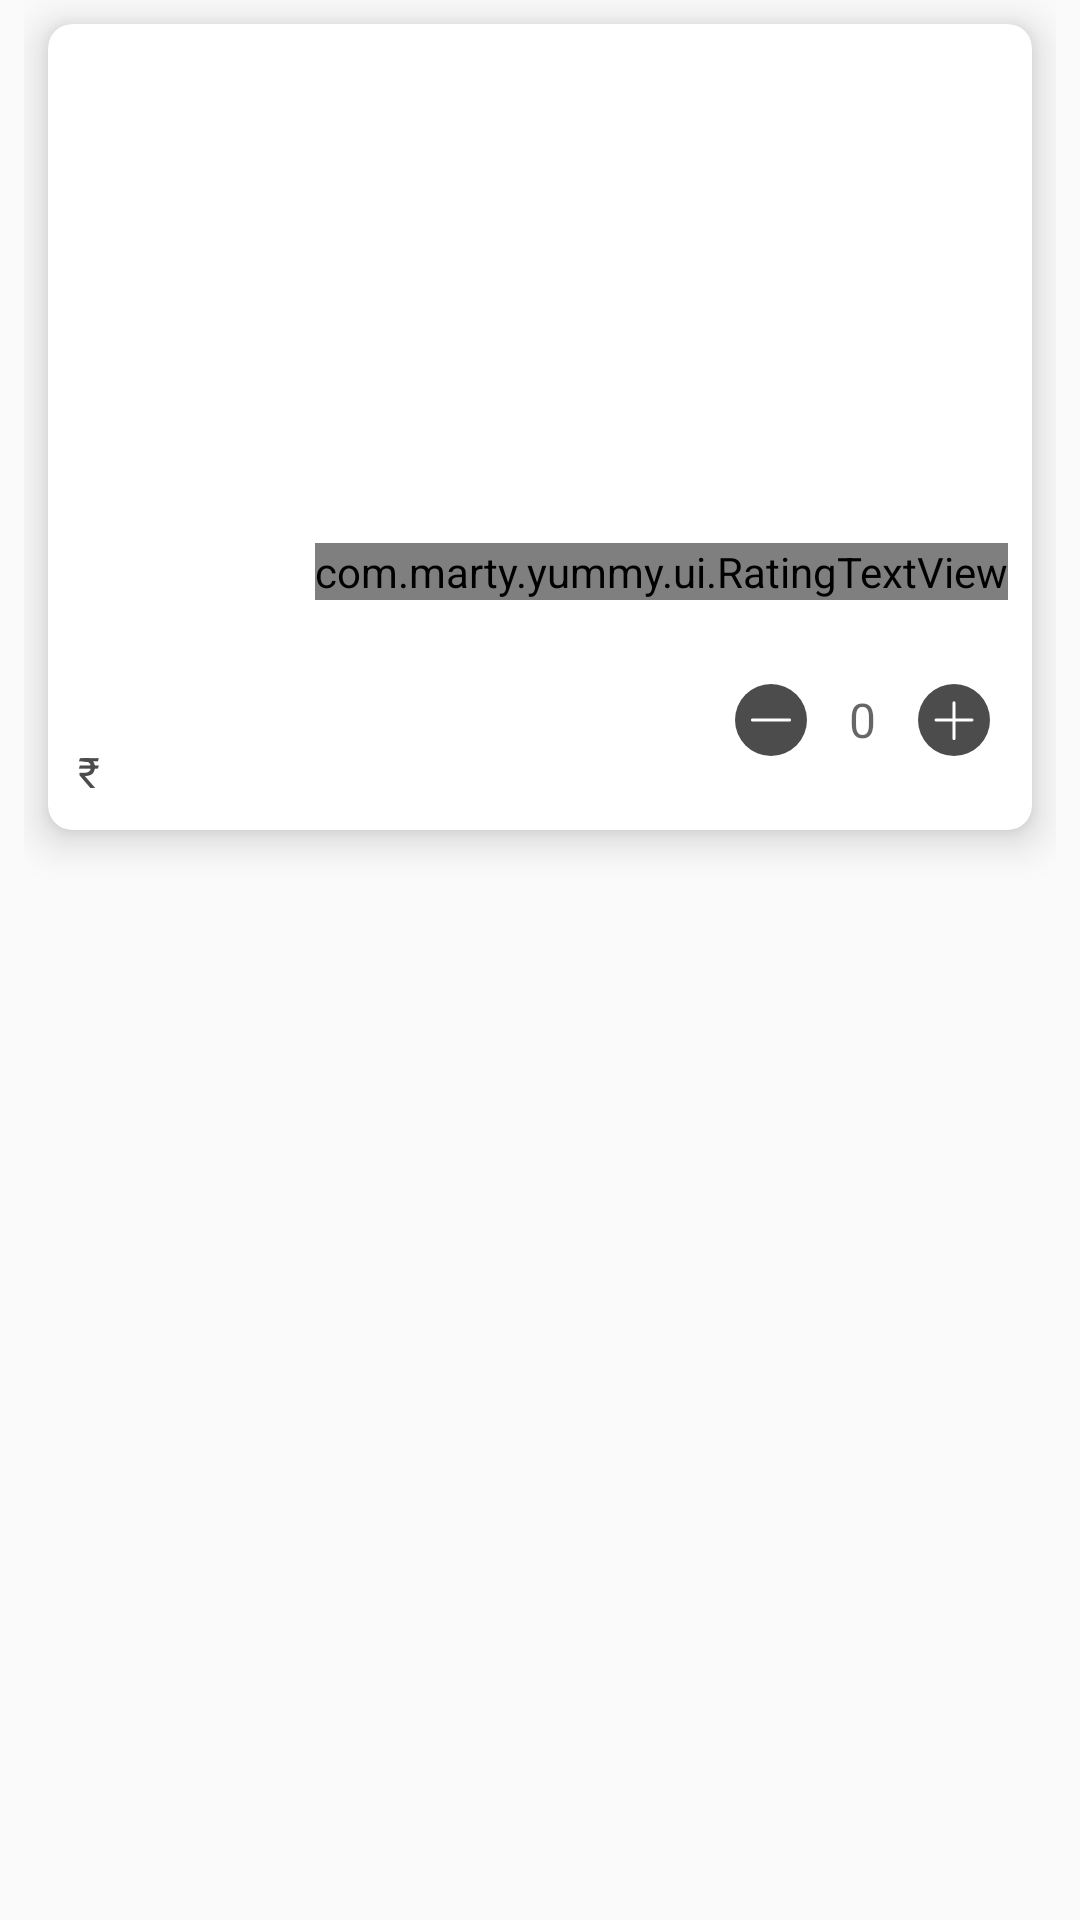

Screen size 1080 × 1920. Icon name, then its box in pixels as (x1, y1, x2, y2):
minus: (735, 684, 807, 756)
plus: (918, 684, 990, 756)
